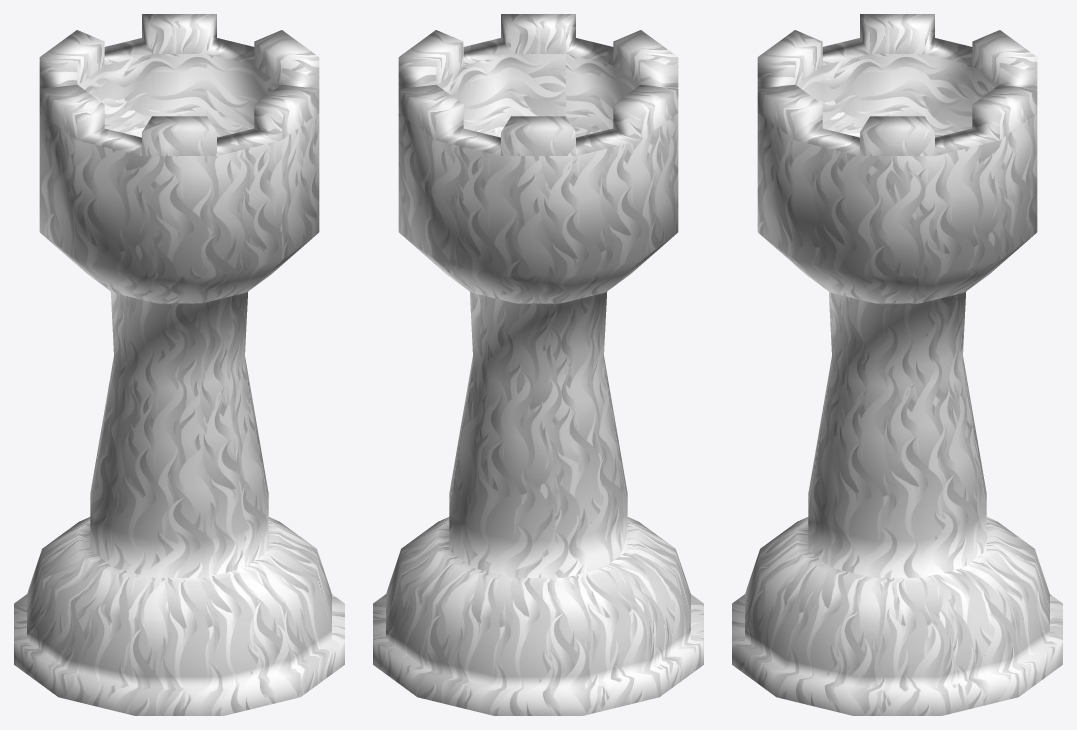
The model's file is Rook.glb.
The picture shows the model from 3 angles, left to right: view 1: azimuth 30°, elevation 25°; view 2: azimuth 150°, elevation 25°; view 3: azimuth 270°, elevation 25°; orthographic projection.
Visible parts, largest first — view 1: Rook; view 2: Rook; view 3: Rook.
Part boxes in pixels (x1,y1,x2,y2): Rook: (14, 14, 344, 715); Rook: (373, 14, 703, 715); Rook: (732, 14, 1062, 715).
Size of the model in its own units: 0.1256 by 0.24 by 0.1256.
Materials: 1 (1 with a texture image).
